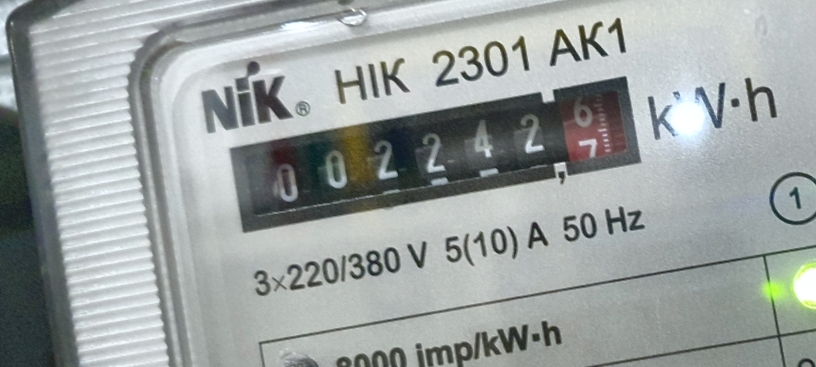0: (320, 146, 352, 192), (371, 137, 401, 183), (274, 159, 302, 206)
2: (517, 110, 548, 157), (420, 130, 450, 177)
4: (468, 117, 497, 163)
6: (569, 94, 598, 131)
7: (576, 136, 602, 162)
screen: (217, 63, 662, 250)
